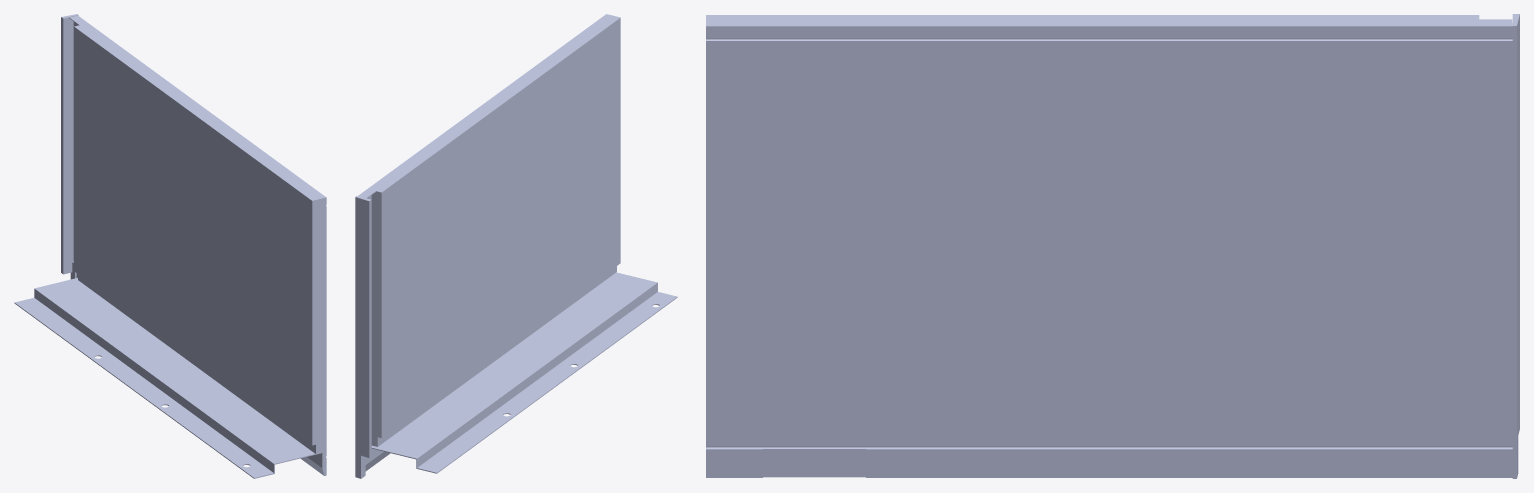
The model's file is lg-kava-F400-m.glb.
3 renders of one model, left to right at view 1: azimuth 30°, elevation 25°; view 2: azimuth 150°, elevation 25°; view 3: azimuth 270°, elevation 25°, orthographic. The views are drawn at different scales.
Parts seen in each view (by area): view 1: 44250825; view 2: 44250825; view 3: 44250825.
Boxes of the visible parts, x1,y1,x2,y2 form: 44250825: [14, 14, 326, 478]; 44250825: [355, 14, 677, 478]; 44250825: [706, 14, 1519, 478].
Bounding box in the file's own units: 0.0653 × 0.2417 × 0.3935.
